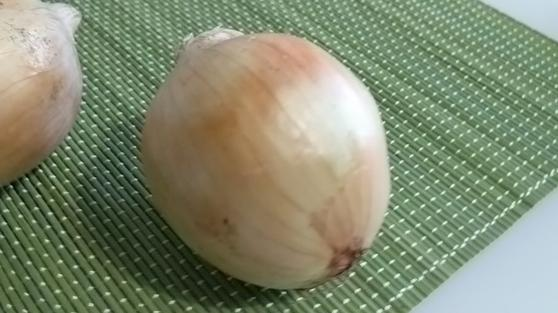onion: (139, 27, 393, 291), (1, 1, 89, 192)
